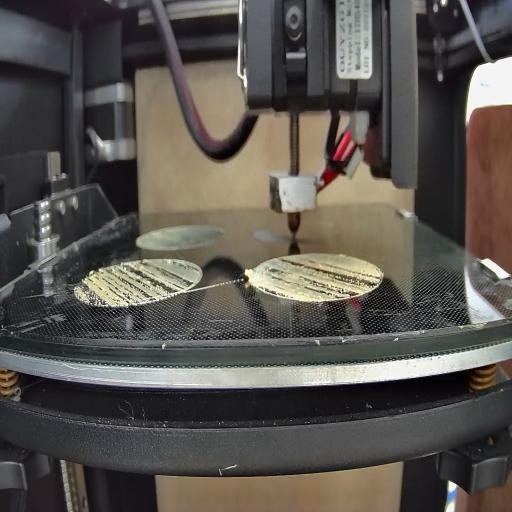under_extrusion: (76, 258, 198, 308), (262, 257, 382, 301)
